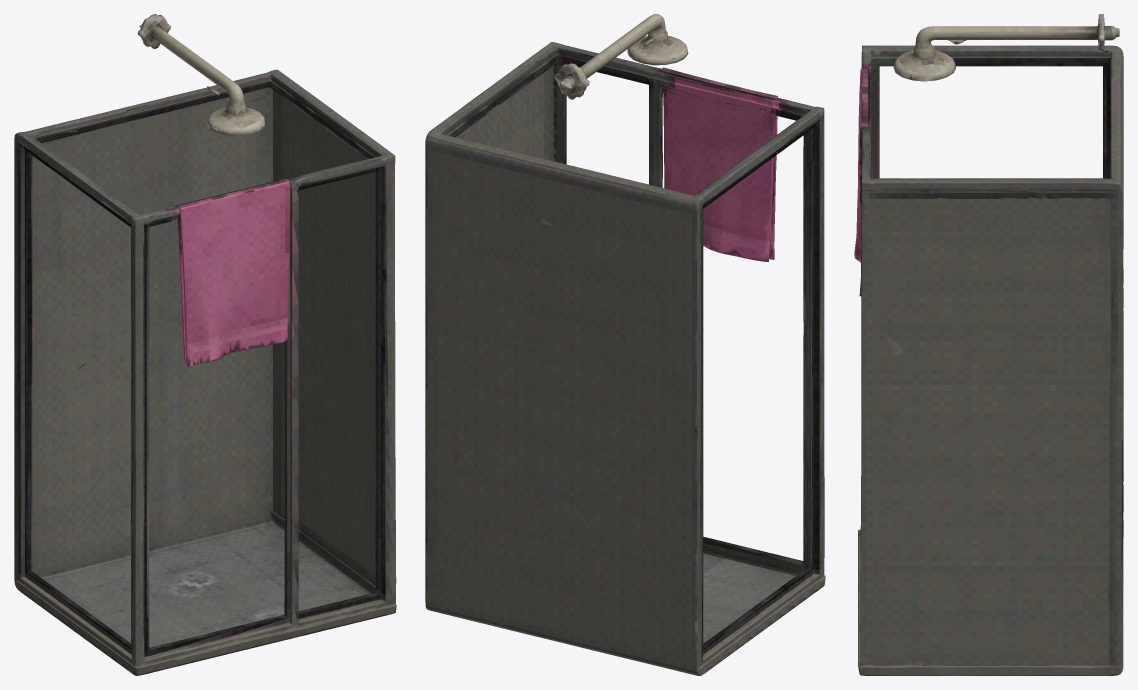
File: shower_box_psx.glb
3 renders of one model, left to right at view 1: azimuth 30°, elevation 25°; view 2: azimuth 150°, elevation 25°; view 3: azimuth 270°, elevation 25°, orthographic. The views are drawn at different scales.
Visible parts, largest first — view 1: shower_box_psx; view 2: shower_box_psx; view 3: shower_box_psx.
Boxes of the visible parts, <box> form: shower_box_psx: <box>14,14,396,675</box>; shower_box_psx: <box>425,14,825,675</box>; shower_box_psx: <box>854,14,1123,675</box>.
Bounding box in the file's own units: 0.5053 × 1.01 × 0.4181.
1 material, 1 textured.
